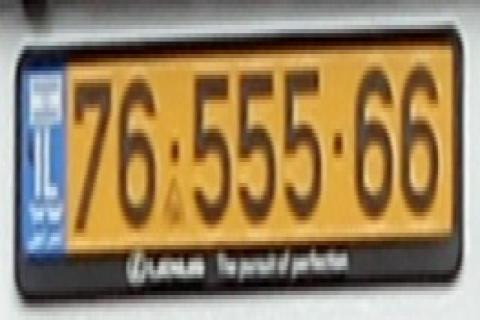LicensePlate: (4, 11, 468, 301)
